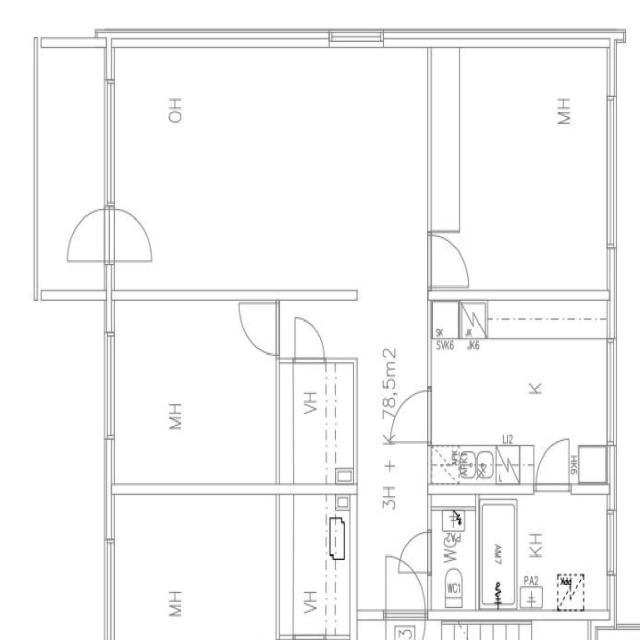door: (382, 548, 432, 624), (108, 202, 158, 268), (62, 203, 110, 270), (427, 226, 474, 293), (386, 383, 434, 447), (532, 433, 576, 495), (237, 299, 280, 360), (394, 526, 434, 581), (290, 313, 329, 369)
window: (98, 72, 121, 213), (98, 322, 120, 446), (599, 337, 621, 449), (98, 528, 120, 640), (326, 25, 384, 51), (603, 503, 621, 582)
zone: (112, 40, 430, 298), (429, 47, 613, 298), (431, 296, 608, 484), (110, 299, 278, 489), (519, 490, 612, 615), (280, 491, 350, 638), (282, 360, 358, 490), (429, 496, 477, 616), (479, 498, 516, 611), (380, 561, 429, 630), (530, 430, 576, 496)
